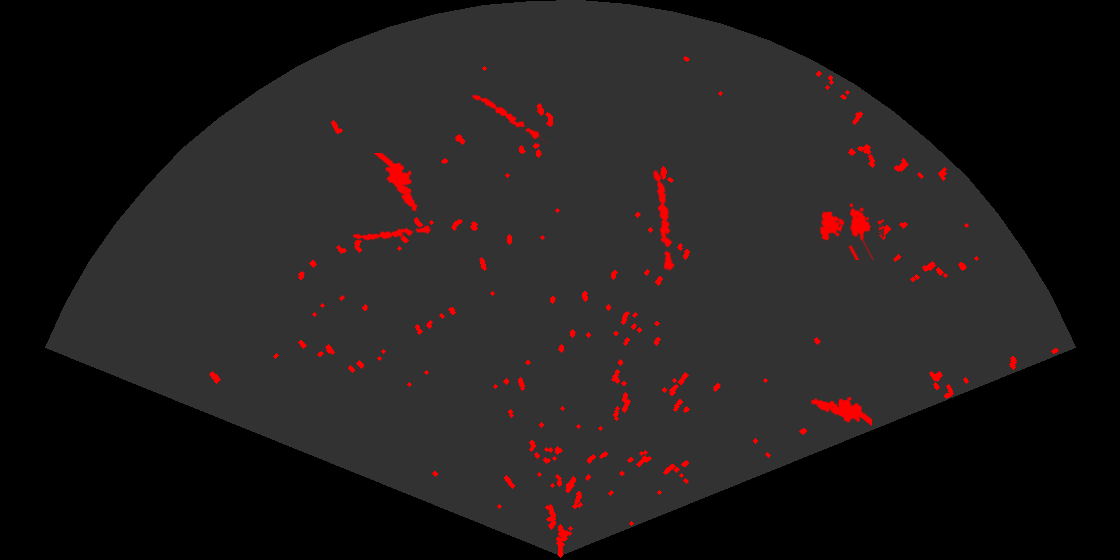cage: (818, 202, 884, 260)
chain: (470, 93, 549, 146), (651, 168, 677, 271), (351, 224, 434, 242)
frogman: (372, 153, 419, 213), (809, 395, 872, 427)
